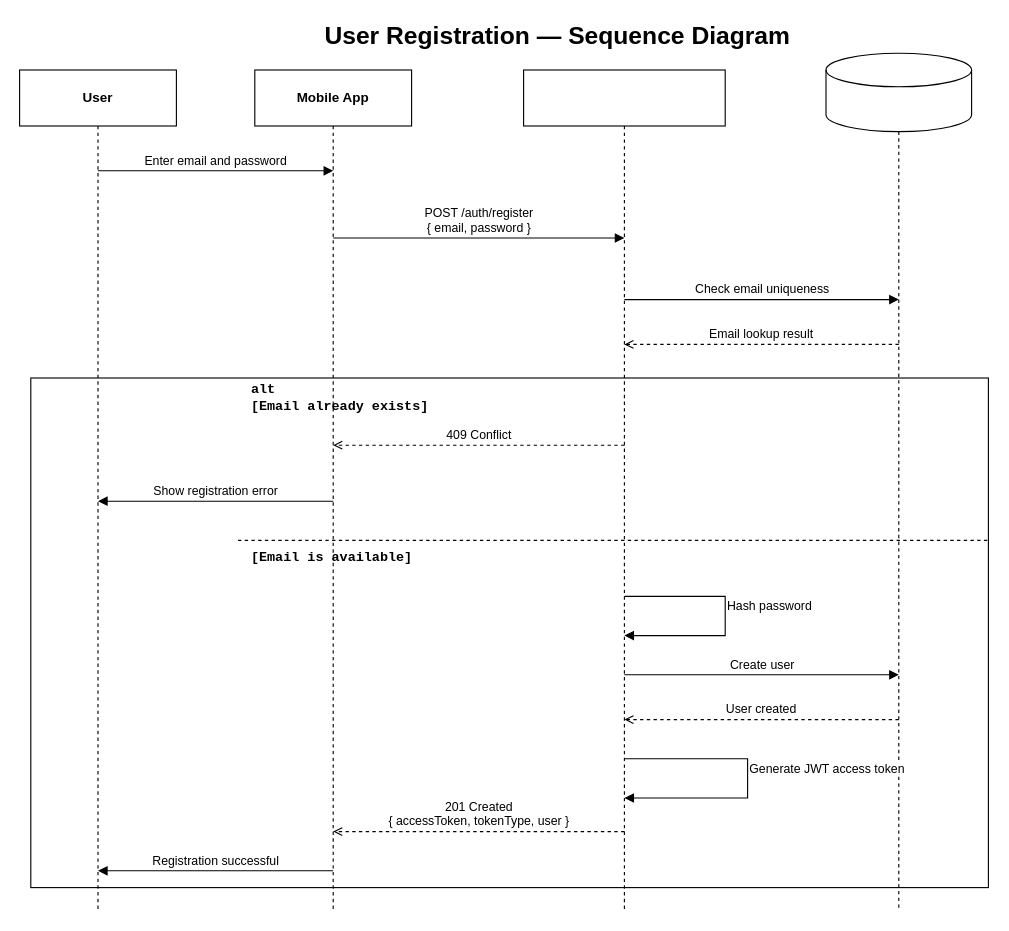
This 1009x931 diagram has some shape labels left out. The centre of each missing label's shape, as x and y in pixels:
"Database (PostgreSQL)" goes at point (898, 92).
"Smart Home Backend" goes at point (623, 97).
